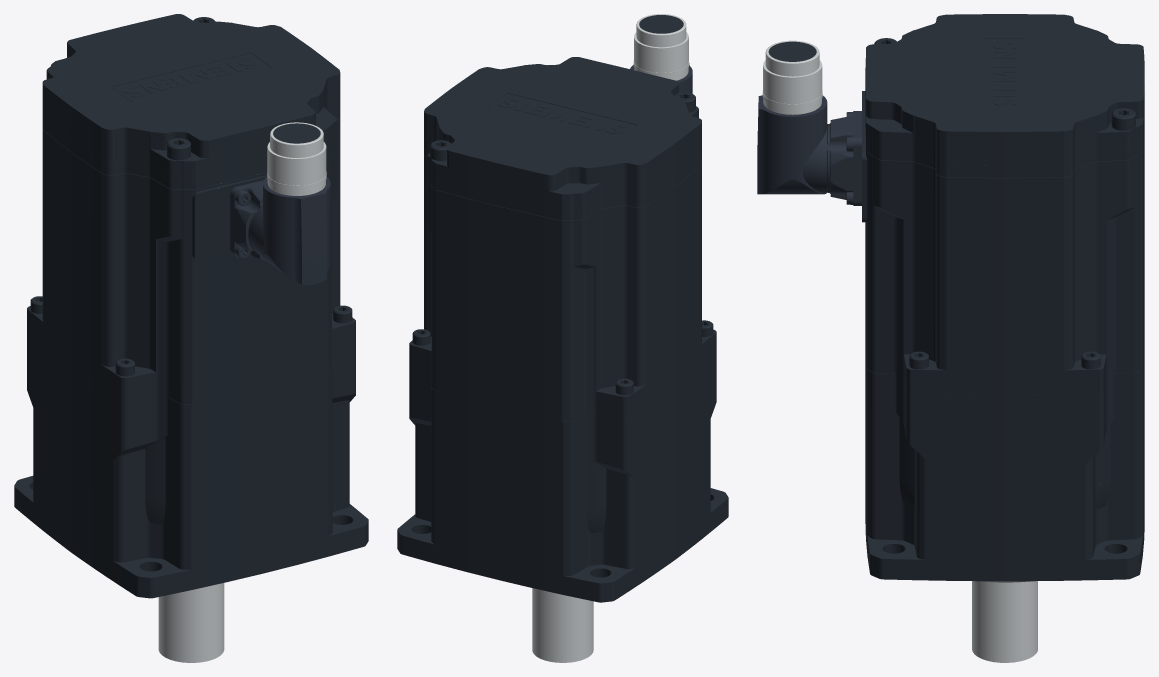
3 views of the same model, side by side, from view 1: azimuth 30°, elevation 25°; view 2: azimuth 150°, elevation 25°; view 3: azimuth 270°, elevation 25° (orthographic). The views are drawn at different scales.
Visible parts, largest first — view 1: 1FK21044AK100MA0_PART1, 1FK21044AK100MA0_PART2, 1FK21044AK100MA0_PART4, 1FK21044AK100MA0_PART6, 1FK21044AK100MA0_PART9, 1FK21044AK100MA0_PART3, 1FK21044AK100MA0_PART5, 1FK21044AK100MA0_PART7; view 2: 1FK21044AK100MA0_PART2, 1FK21044AK100MA0_PART1, 1FK21044AK100MA0_PART4, 1FK21044AK100MA0_PART9, 1FK21044AK100MA0_PART3, 1FK21044AK100MA0_PART6, 1FK21044AK100MA0_PART7; view 3: 1FK21044AK100MA0_PART2, 1FK21044AK100MA0_PART1, 1FK21044AK100MA0_PART4, 1FK21044AK100MA0_PART6, 1FK21044AK100MA0_PART9, 1FK21044AK100MA0_PART3, 1FK21044AK100MA0_PART5, 1FK21044AK100MA0_PART7.
Part boxes in pixels (x1,y1,x2,y2): 1FK21044AK100MA0_PART1: (14, 332, 368, 598); 1FK21044AK100MA0_PART2: (27, 119, 355, 404); 1FK21044AK100MA0_PART4: (42, 14, 340, 176); 1FK21044AK100MA0_PART6: (250, 122, 330, 285); 1FK21044AK100MA0_PART9: (158, 583, 224, 662); 1FK21044AK100MA0_PART3: (42, 106, 340, 189); 1FK21044AK100MA0_PART5: (230, 180, 265, 260); 1FK21044AK100MA0_PART7: (273, 123, 320, 143); 1FK21044AK100MA0_PART2: (409, 155, 716, 421); 1FK21044AK100MA0_PART1: (397, 354, 728, 602); 1FK21044AK100MA0_PART4: (424, 57, 701, 208); 1FK21044AK100MA0_PART9: (532, 588, 593, 662); 1FK21044AK100MA0_PART3: (424, 143, 701, 220); 1FK21044AK100MA0_PART6: (630, 14, 692, 93); 1FK21044AK100MA0_PART7: (639, 15, 683, 33); 1FK21044AK100MA0_PART2: (862, 91, 1144, 394); 1FK21044AK100MA0_PART1: (865, 338, 1144, 582); 1FK21044AK100MA0_PART4: (865, 14, 1144, 165); 1FK21044AK100MA0_PART6: (757, 40, 827, 194); 1FK21044AK100MA0_PART9: (972, 581, 1037, 662); 1FK21044AK100MA0_PART3: (865, 111, 1144, 177); 1FK21044AK100MA0_PART5: (827, 111, 861, 205); 1FK21044AK100MA0_PART7: (768, 41, 816, 61).
Bounding box in the file's own units: 0.08 × 0.1887 × 0.111.
